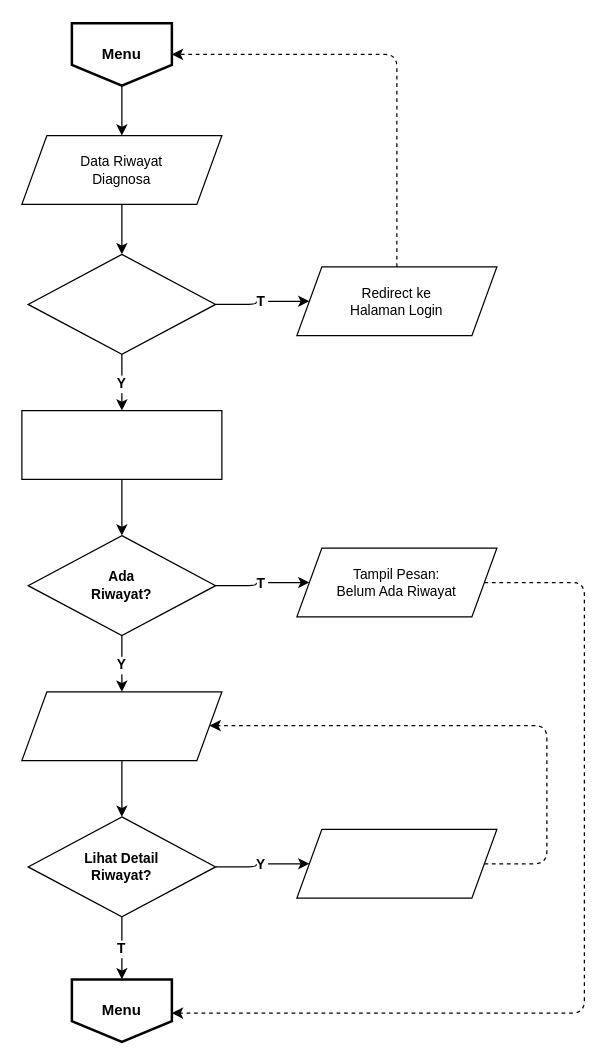
Some shapes in this 616 by 1064 pixel diagram are drawn without their labels. Each missing label, with the centre of its shape:
"Pengguna Login?" belongs at (121,303).
"Sistem Muat Riwayat dari DB" belongs at (121,444).
"Tampil Daftar Riwayat Diagnosa" belongs at (121,726).
"Tampil Detail Hasil Diagnosa" belongs at (396,863).
